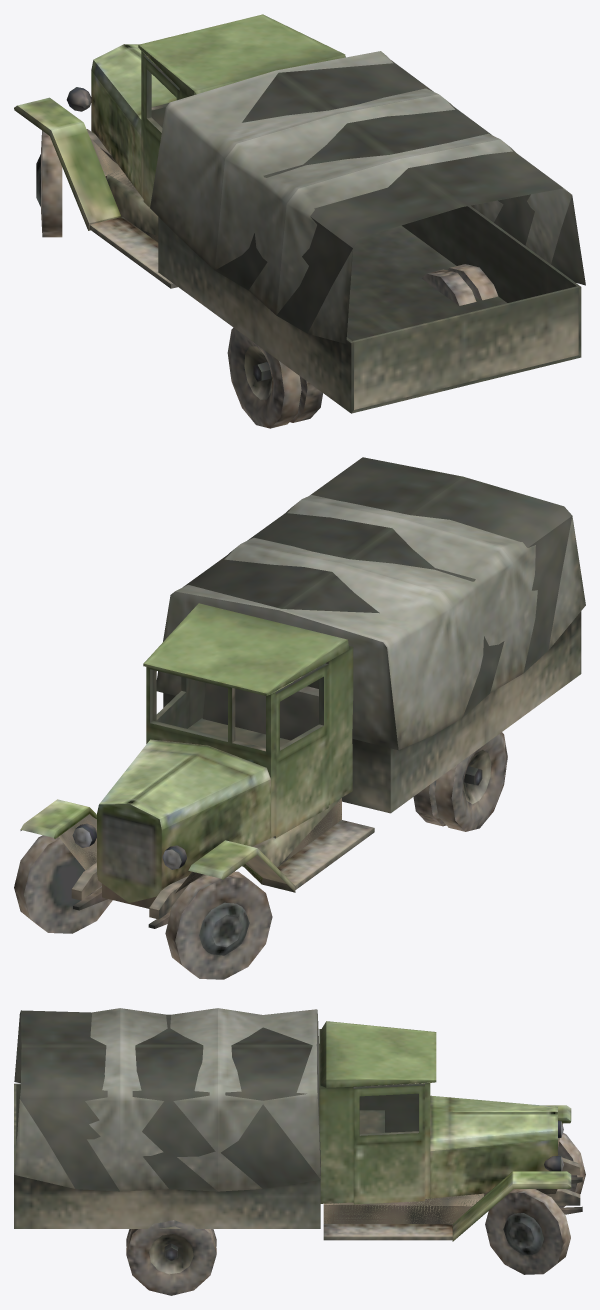
Rendered from armored_car.fbx.
3 views of the same model, one above another, from view 1: azimuth 30°, elevation 25°; view 2: azimuth 150°, elevation 25°; view 3: azimuth 270°, elevation 25° (orthographic). The views are drawn at different scales.
Parts seen in each view (by area): view 1: armored_car; view 2: armored_car; view 3: armored_car.
Boxes of the visible parts, box(x1,y1,x2,y2) form: armored_car: box(14, 14, 585, 428); armored_car: box(14, 457, 585, 979); armored_car: box(14, 1008, 585, 1295).
Bounding box in the file's own units: 2.32 × 2.37 × 5.88.
